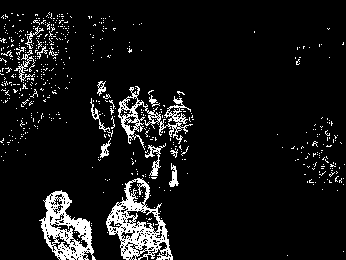person: (106, 178, 174, 260), (39, 190, 98, 260), (163, 89, 195, 188), (118, 84, 146, 174), (144, 87, 166, 182), (90, 80, 113, 159)
